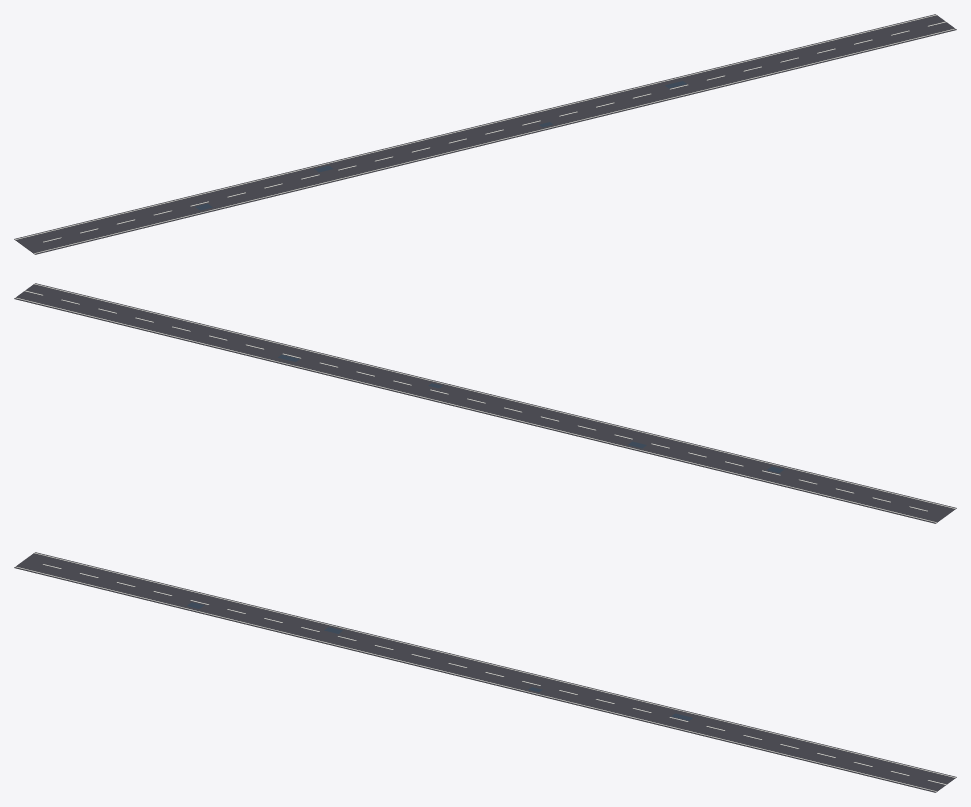
Rendered from road.glb.
3 views of the same model, one above another, from view 1: azimuth 30°, elevation 25°; view 2: azimuth 150°, elevation 25°; view 3: azimuth 330°, elevation 25° (orthographic).
Parts seen in each view (by area): view 1: road; view 2: road; view 3: road.
Boxes of the visible parts, x1,y1,x2,y2 form: road: [14, 14, 956, 254]; road: [14, 283, 956, 523]; road: [14, 552, 956, 792].
Bounding box in the file's own units: 100 × 0.042 × 4.
Materials: 1 (1 with a texture image).
